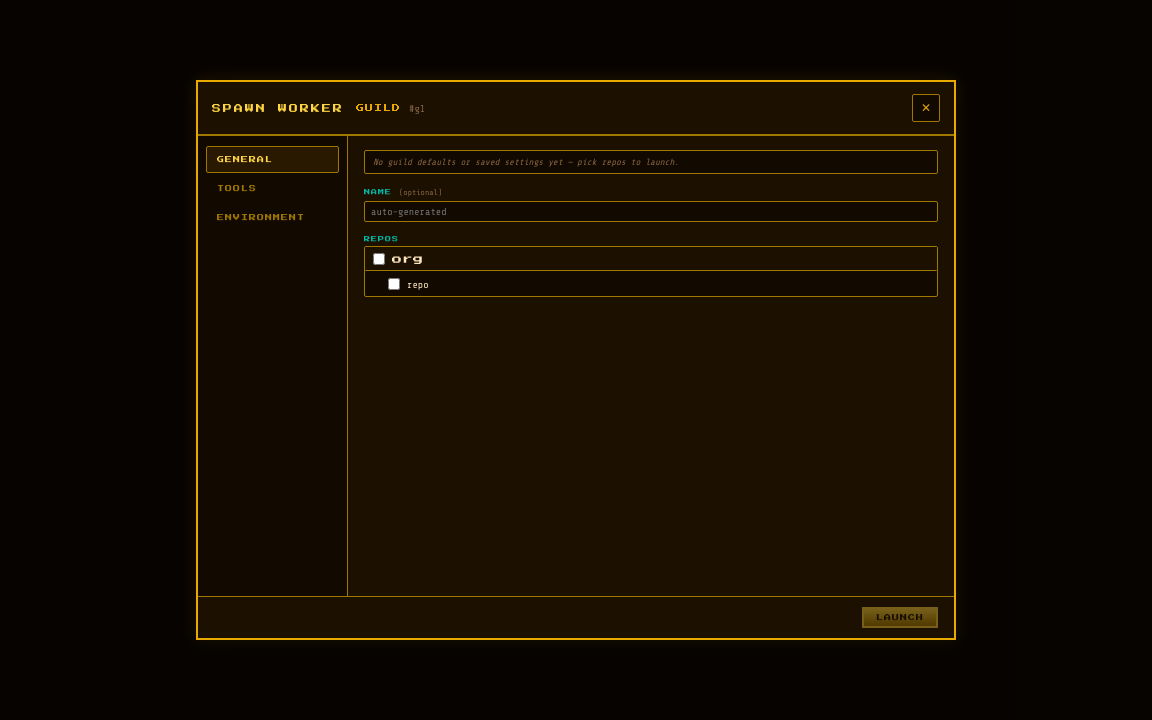
SpawnWorkerForm credentials › shows the guild per-tool env vars alongside the user overrides
The image size is (1152, 720).
Click the button with class "settings-tab" showing "Environment" at [272, 218], box top-left (206, 204), bottom-right (339, 231)
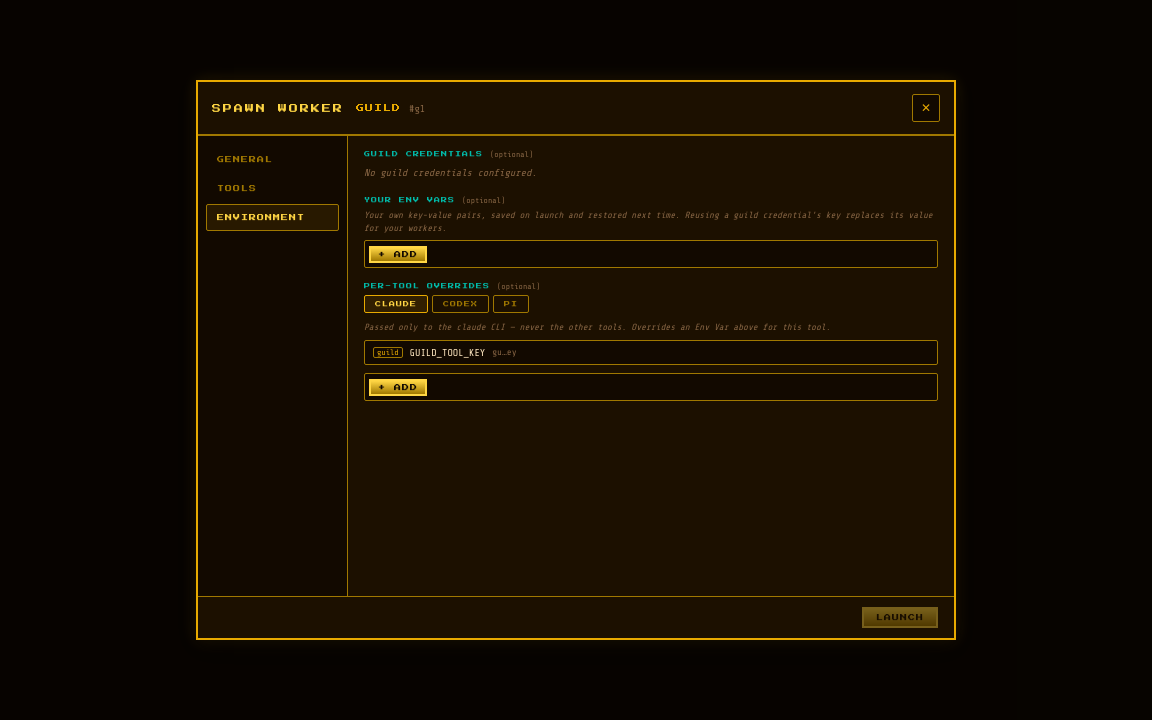
Check: the text "GUILD_TOOL_KEY" is shown, box top-left (410, 347), bottom-right (485, 358)
Check: the text "gu…ey" is shown, box top-left (492, 347), bottom-right (516, 357)
